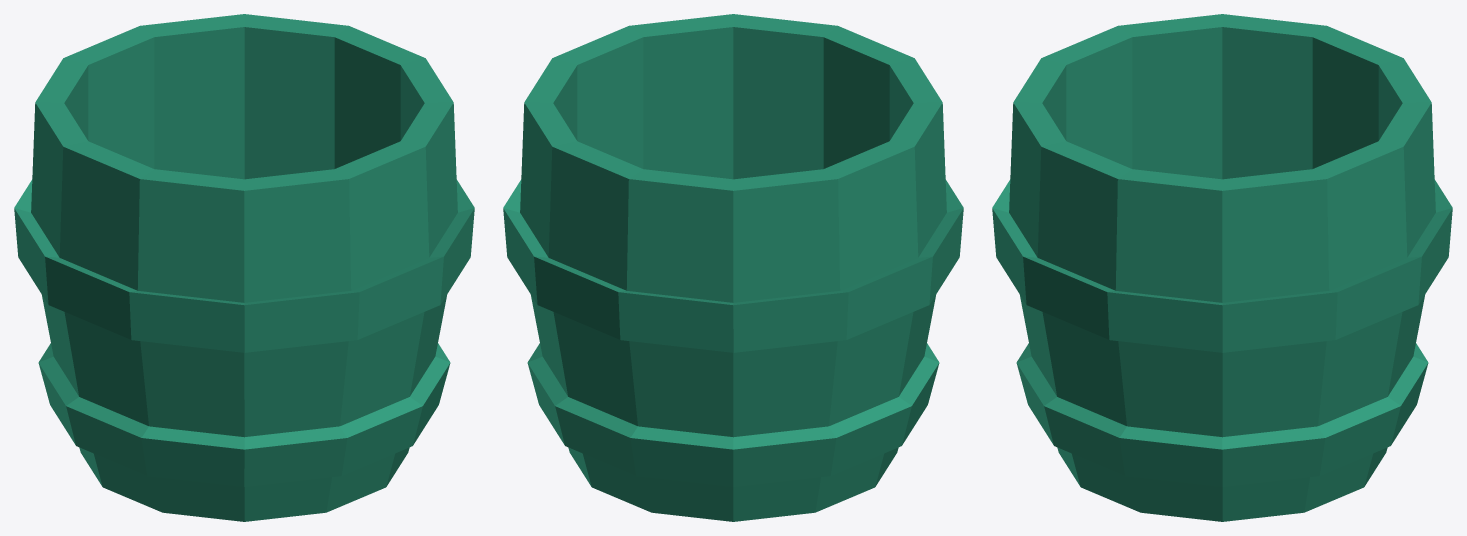
File: SM_E_Bucket_01.fbx
3 renders of one model, left to right at view 1: azimuth 30°, elevation 25°; view 2: azimuth 150°, elevation 25°; view 3: azimuth 270°, elevation 25°, orthographic.
Visible parts, largest first — view 1: SM_A_Bucket_01; view 2: SM_A_Bucket_01; view 3: SM_A_Bucket_01.
Part boxes in pixels (x1,y1,x2,y2): SM_A_Bucket_01: [14, 14, 474, 521]; SM_A_Bucket_01: [503, 14, 963, 521]; SM_A_Bucket_01: [992, 14, 1452, 521].
Size of the model in its own units: 242 by 203 by 242.
